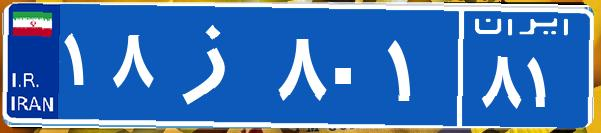0: (330, 28, 385, 110)
1: (385, 28, 445, 110), (57, 26, 110, 107), (525, 38, 570, 115)
8: (273, 28, 330, 110), (475, 38, 525, 113), (110, 28, 158, 105)
ز: (158, 15, 273, 115)
